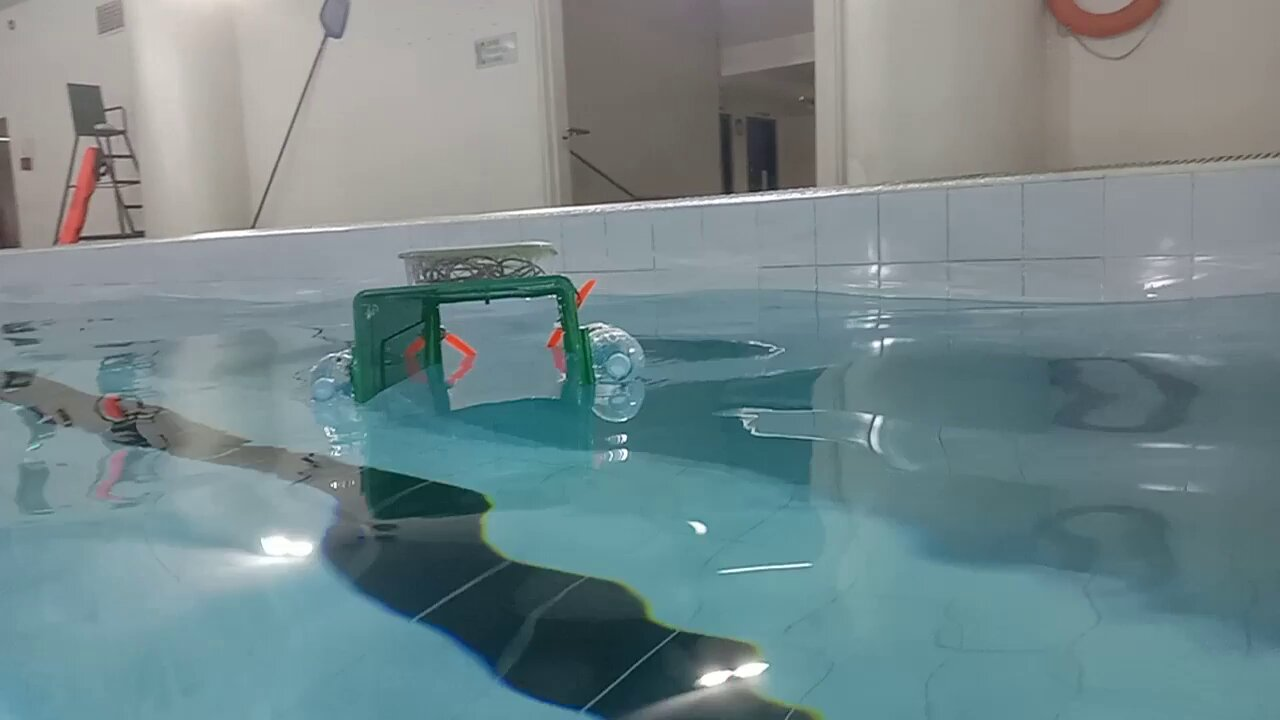drone: (308, 237, 647, 410)
